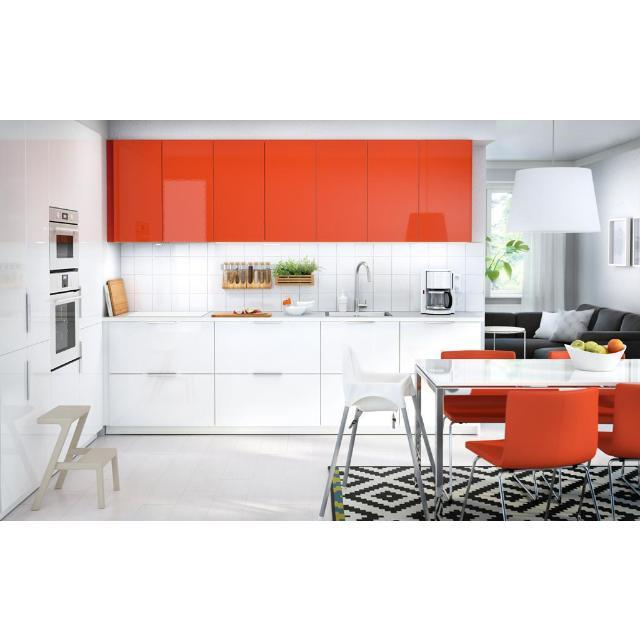chair: (460, 386, 601, 520)
light: (508, 166, 600, 232)
pillow: (534, 310, 594, 342)
plant: (485, 236, 529, 297)
rug: (329, 464, 640, 521)
table: (415, 359, 640, 518), (485, 325, 526, 357)
wall-art: (485, 302, 640, 358), (609, 214, 630, 262), (631, 216, 640, 265)
